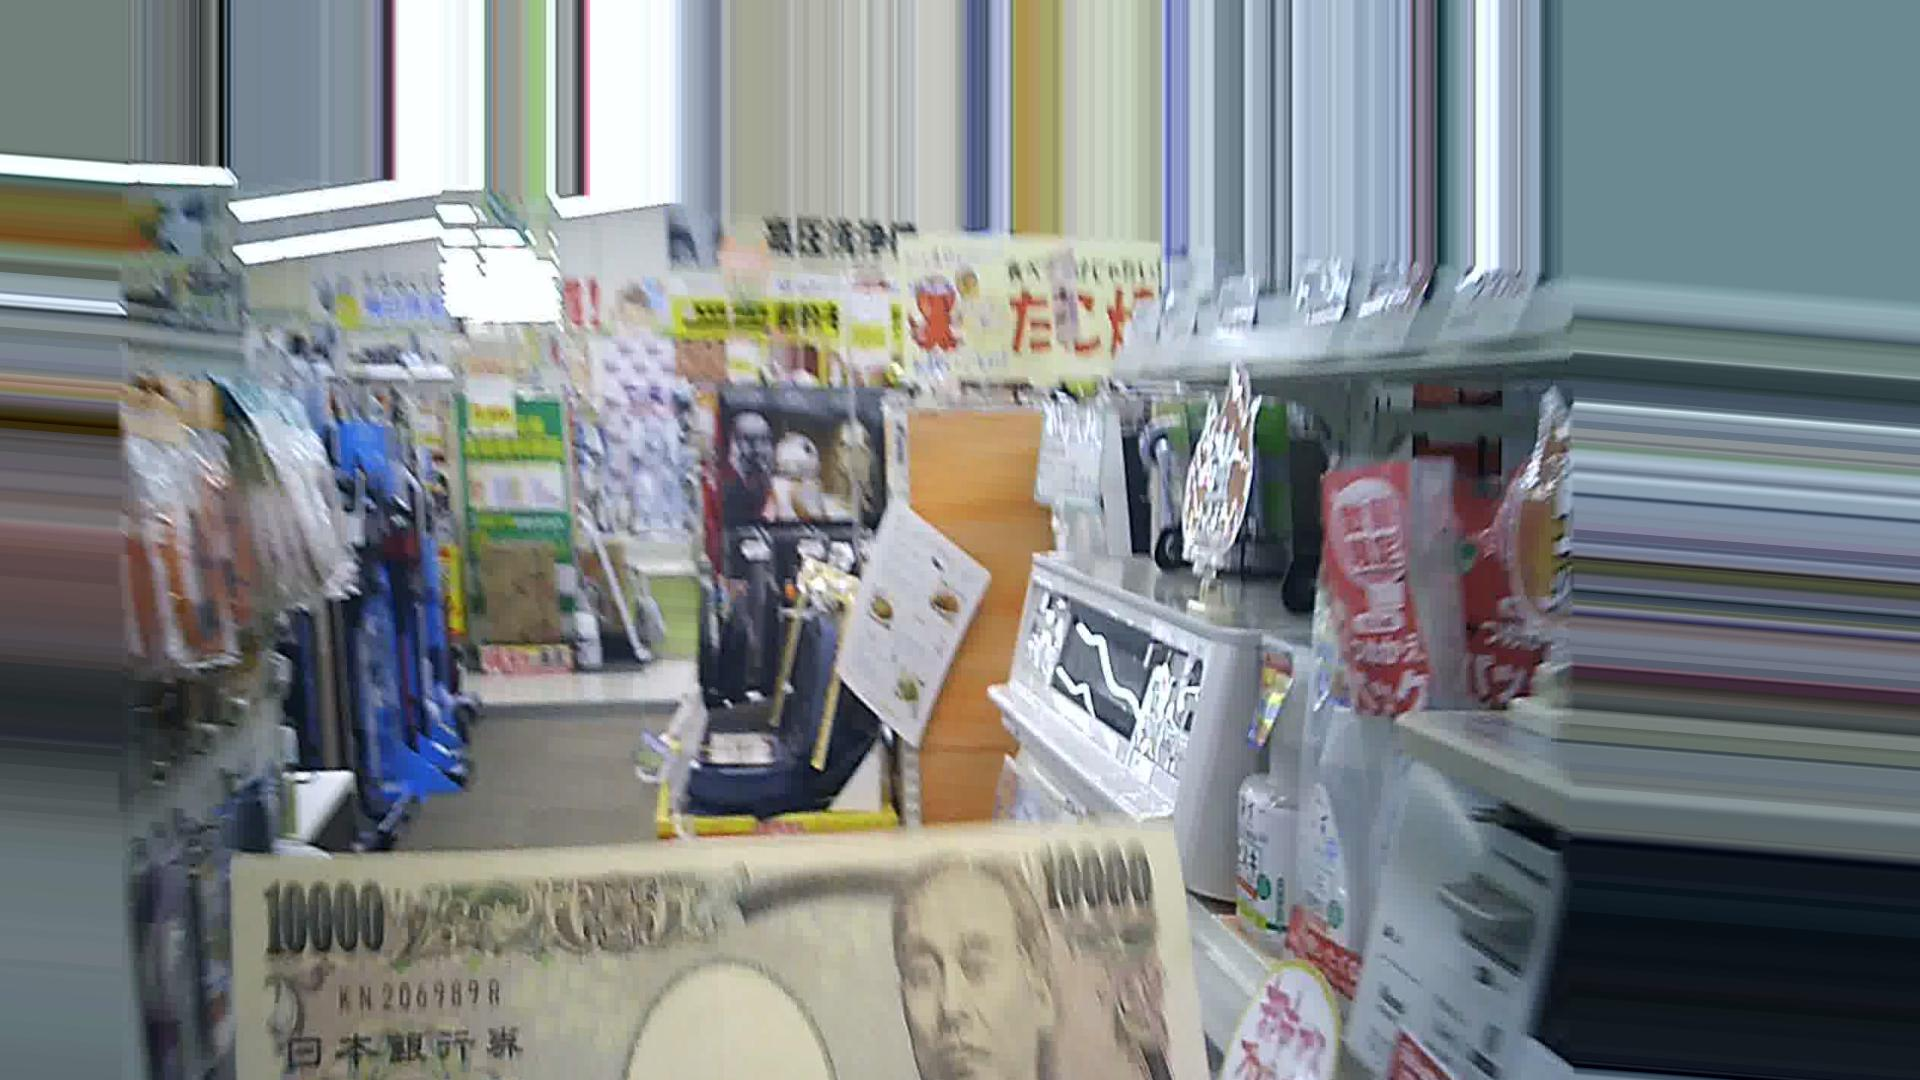10,000 Yen: (214, 806, 1225, 1079)
